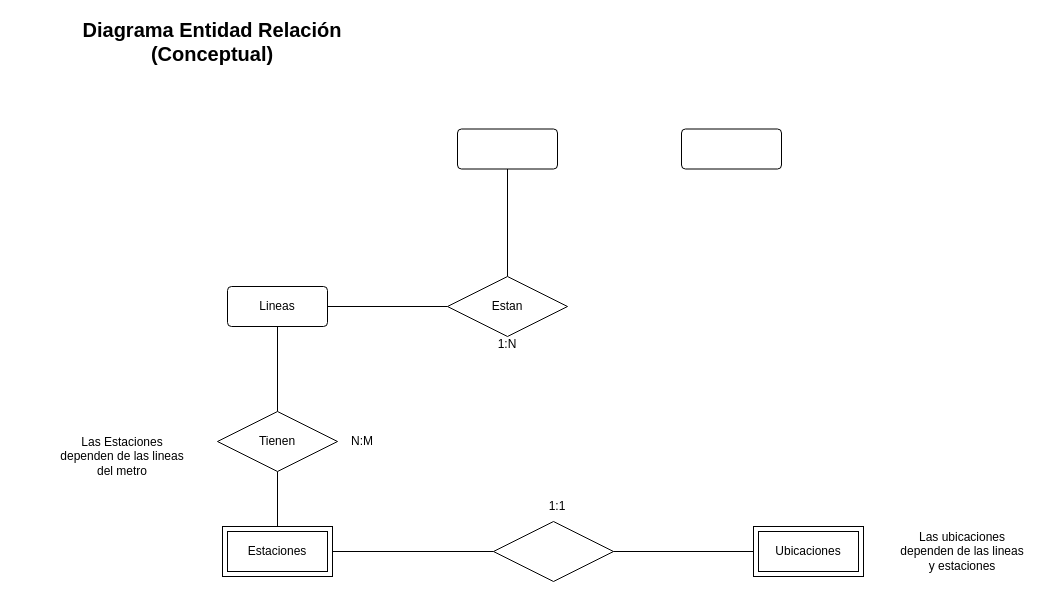
The diagram is 1044 pixels wide and 599 high, and some of its shapes have lost their labels. The centre of each missing label's shape, as x and y in pixels:
"Drivers" belongs at point 731,148.
"Están" belongs at point 553,551.
"Trenes" belongs at point 507,148.
